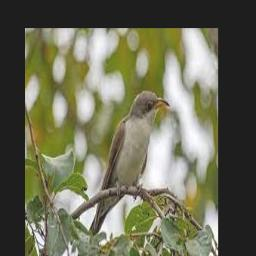Cuckoo: (76, 90, 170, 256)
